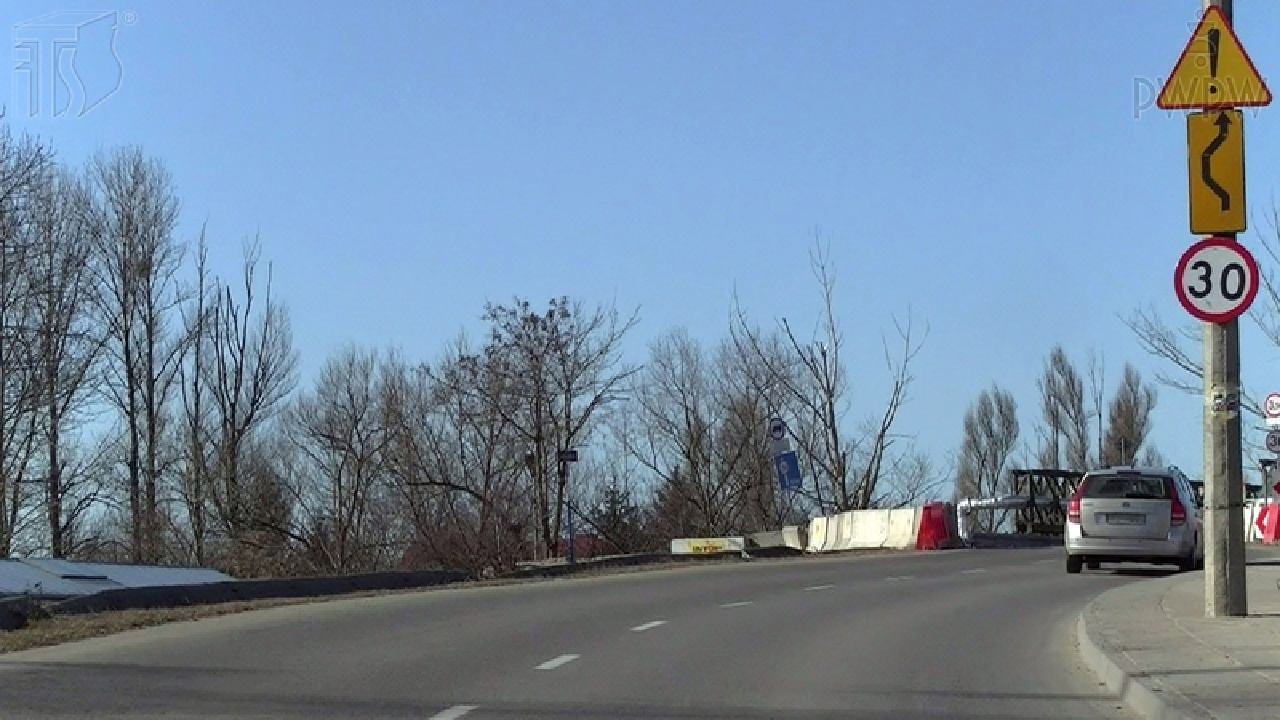A30: (1139, 2, 1272, 109)
B33_30: (1166, 231, 1270, 329)
